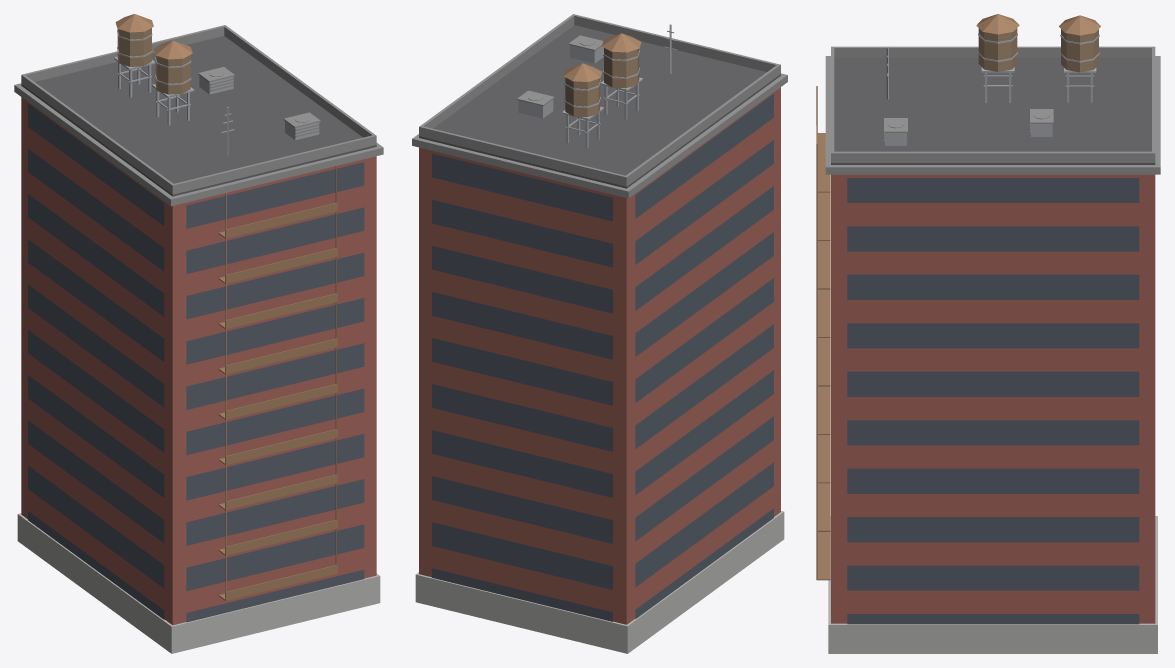
The model's file is bld_tenement_03.glb.
3 renders of one model, left to right at view 1: azimuth 30°, elevation 25°; view 2: azimuth 150°, elevation 25°; view 3: azimuth 270°, elevation 25°, orthographic. The views are drawn at different scales.
Parts seen in each view (by area): view 1: bld_tenement_03; view 2: bld_tenement_03; view 3: bld_tenement_03.
Boxes of the visible parts, bbox=[...] form: bld_tenement_03: bbox=[14, 14, 383, 653]; bld_tenement_03: bbox=[412, 14, 787, 653]; bld_tenement_03: bbox=[816, 14, 1160, 653].
Size of the model in its own units: 14.6 by 35.08 by 19.12.
